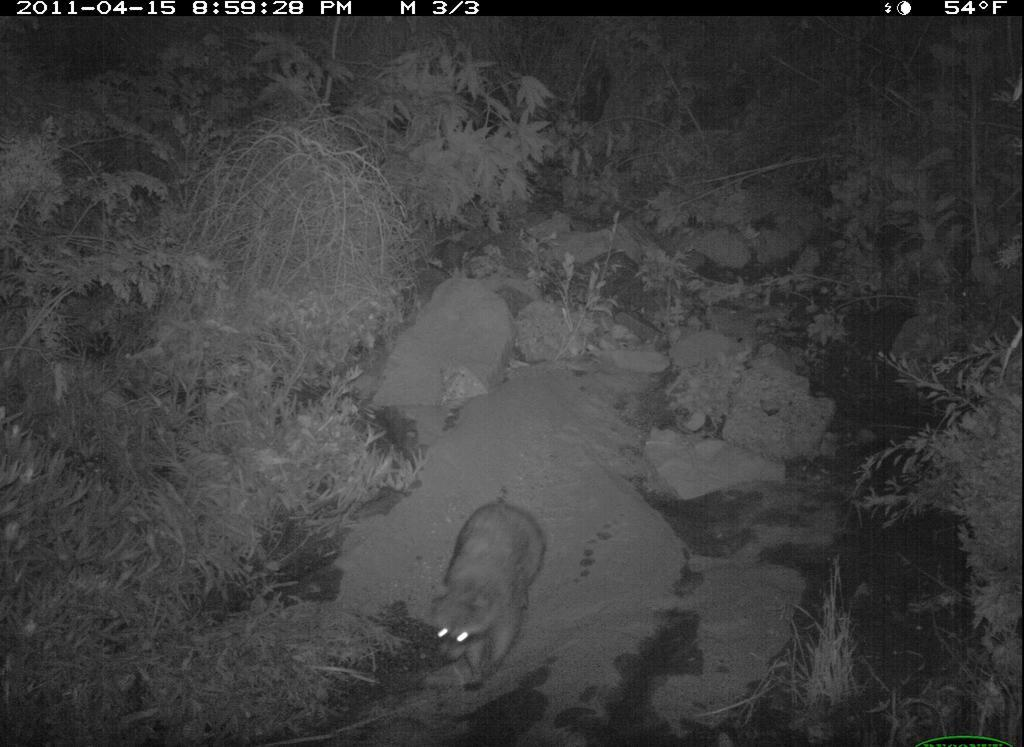raccoon: (420, 488, 556, 692)
